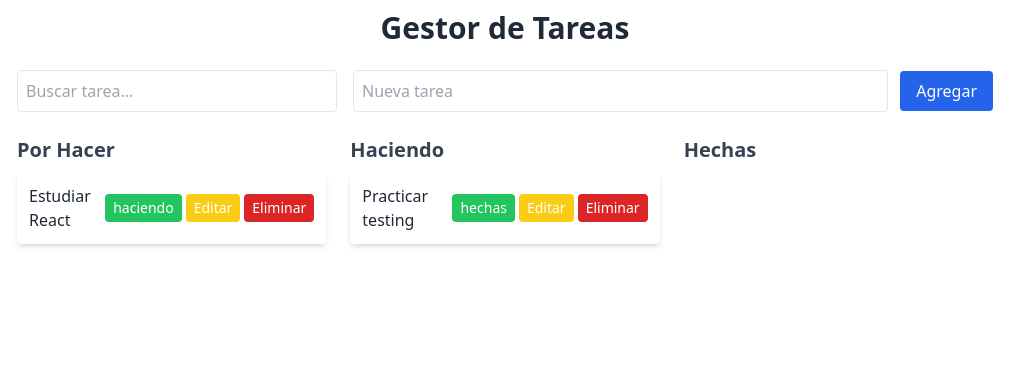
Integración - Creación de Tareas › permite agregar una nueva tarea que aparece en la columna por hacer
Expected: the text "Nueva tarea de integración" is not shown
In the field with placeholder "Nueva tarea": (621, 91) 353,70 -> 888,112, type "Nueva tarea de integración"
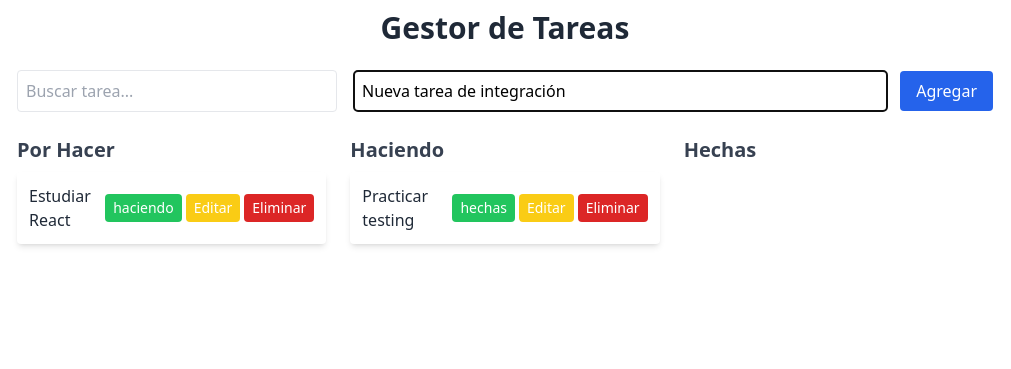
Click the button "Agregar": (947, 91) 900,71 -> 993,111
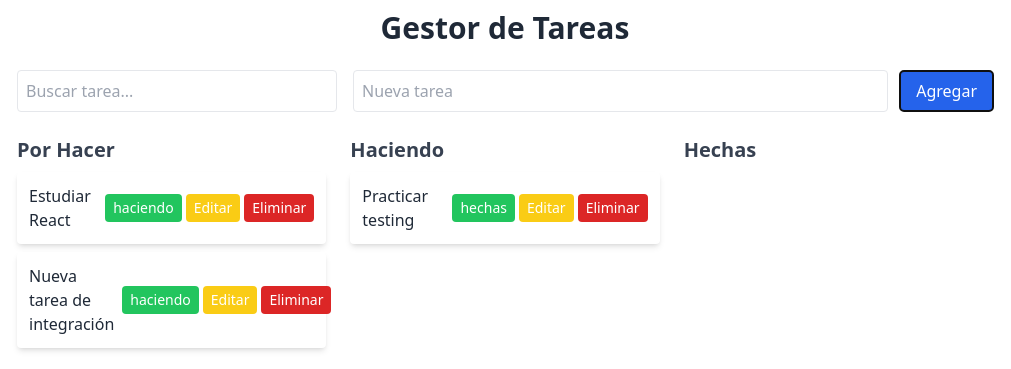
Result: the text "Nueva tarea de integración" is shown at 29,264 -> 114,336
Result: the field with placeholder "Nueva tarea" is empty at 353,70 -> 888,112
